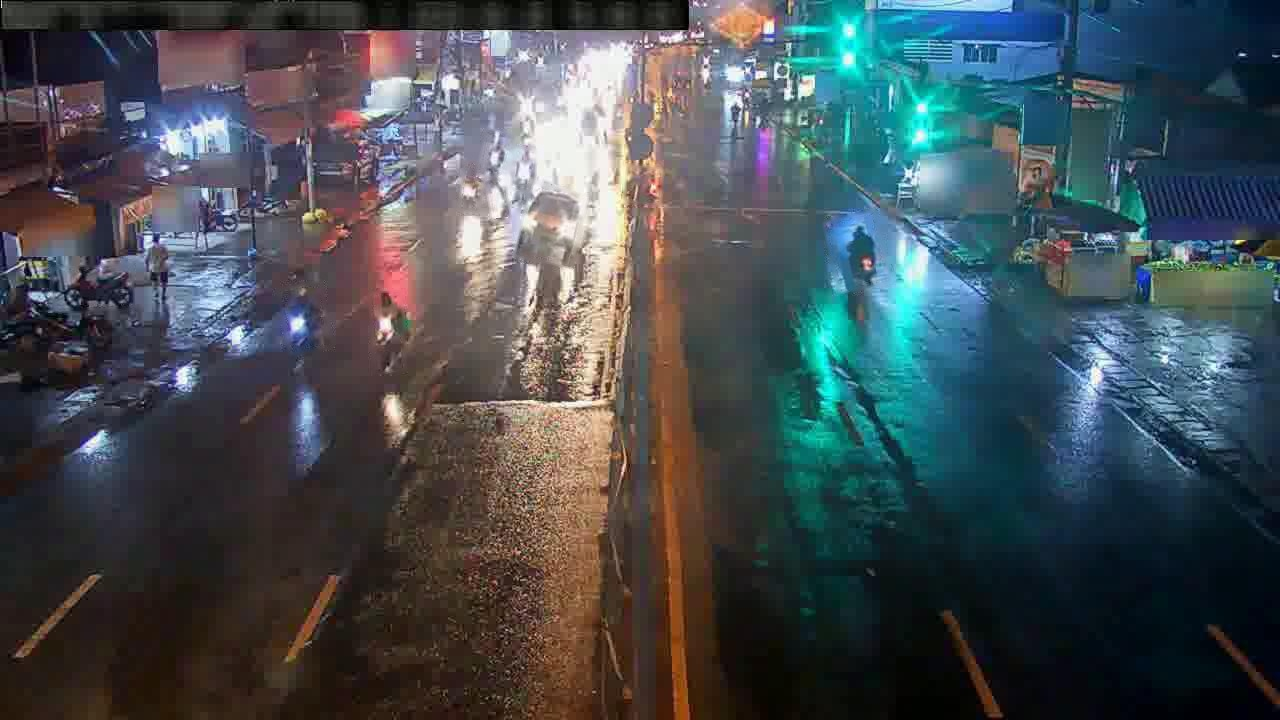Car: (516, 190, 584, 265), (63, 268, 133, 309)
Motorcyclist: (827, 215, 880, 292), (375, 291, 411, 371), (285, 284, 323, 349), (623, 168, 660, 205), (481, 132, 506, 180), (459, 164, 482, 212), (513, 148, 535, 193), (488, 175, 509, 218)
Pedestrian: (156, 244, 169, 300)
